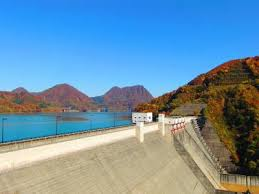mountain: (177, 54, 257, 134), (4, 83, 155, 110)
sky: (2, 3, 255, 80)
